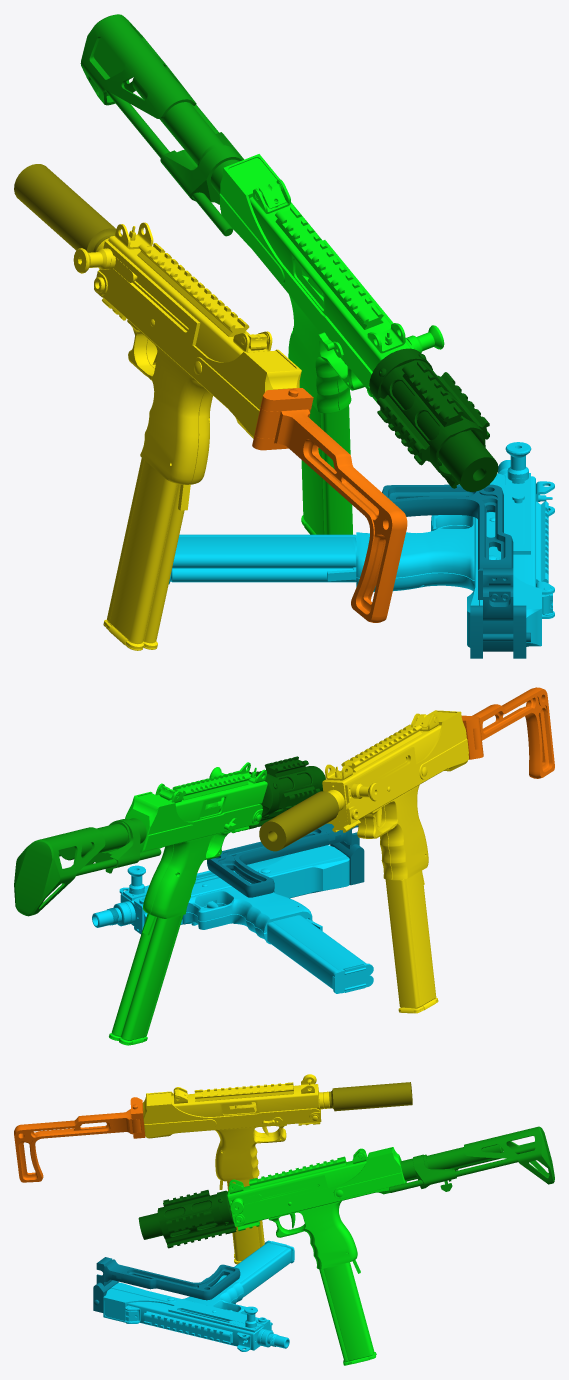
File: MPASST-30.fbx
3 views of the same model, one above another, from view 1: azimuth 30°, elevation 25°; view 2: azimuth 150°, elevation 25°; view 3: azimuth 270°, elevation 25° (orthographic). The views are drawn at different scales.
Parts seen in each view (by area): view 1: LP SST30 Mag, LP SST30 Mag002, LP SST30 Bottom Frame, LP SST30 Stock 1, LP MDCQB-G7 Stock-1, LP SST30 Left Grip Pad, LP SST30 Bottom Frame001, LP SST30 Barrel Extension001, LP SST30 Stock 004, LP SST30 Left Grip Pad002, LP SST30 Top Frame001, LP SST30 Handguard Rails (+22 smaller); view 2: LP SST30 Mag, LP SST30 Mag001, LP MDCQB-G7 Stock-1, LP SST30 Bottom Frame002, LP SST30 Bottom Frame, LP SST30 Bottom Frame001, LP SST30 Mag002, LP SST30 Left Grip Pad, LP SST30 Stock 1, LP SST30 Stock 004, LP SST30 Right Grip Pad001, LP SST30 Left Grip Pad002 (+21 smaller); view 3: LP SST30 Bottom Frame001, LP SST30 Bottom Frame, LP SST30 Mag001, LP SST30 Left Grip Pad001, LP SST30 Stock 1, LP SST30 Right Grip Pad, LP MDCQB-G7 Stock-1, LP SST30 Stock 004, LP SST30 Top Frame, LP SST30 Bottom Frame002, LP SST30 Barrel Extension001, LP SST30 Mag002 (+20 smaller).
Part boxes in pixels (box(x1,y1,x2,y2)): LP SST30 Mag: box(103, 458, 184, 649); LP SST30 Mag002: box(169, 534, 356, 584); LP SST30 Bottom Frame: box(94, 269, 301, 438); LP SST30 Stock 1: box(289, 417, 407, 622); LP MDCQB-G7 Stock-1: box(80, 14, 196, 118); LP SST30 Left Grip Pad: box(127, 320, 205, 484); LP SST30 Bottom Frame001: box(219, 154, 377, 403); LP SST30 Barrel Extension001: box(14, 164, 121, 252); LP SST30 Stock 004: box(382, 484, 513, 566); LP SST30 Left Grip Pad002: box(356, 515, 474, 580); LP SST30 Top Frame001: box(249, 197, 410, 371); LP SST30 Handguard Rails: box(377, 360, 489, 488); LP SST30 Mag: box(385, 871, 438, 1012); LP SST30 Mag001: box(109, 913, 183, 1044); LP MDCQB-G7 Stock-1: box(14, 827, 105, 916); LP SST30 Bottom Frame002: box(134, 845, 349, 934); LP SST30 Bottom Frame: box(327, 710, 468, 824); LP SST30 Bottom Frame001: box(125, 791, 262, 851); LP SST30 Mag002: box(267, 915, 370, 992); LP SST30 Left Grip Pad: box(364, 785, 428, 880); LP SST30 Stock 1: box(472, 687, 554, 778); LP SST30 Stock 004: box(207, 827, 341, 897); LP SST30 Right Grip Pad001: box(151, 830, 233, 918); LP SST30 Left Grip Pad002: box(186, 882, 312, 932); LP SST30 Bottom Frame001: box(232, 1147, 406, 1226); LP SST30 Bottom Frame: box(143, 1091, 321, 1138); LP SST30 Mag001: box(319, 1262, 376, 1364); LP SST30 Left Grip Pad001: box(268, 1201, 357, 1269); LP SST30 Stock 1: box(14, 1112, 122, 1182); LP SST30 Right Grip Pad: box(215, 1124, 286, 1181); LP MDCQB-G7 Stock-1: box(464, 1126, 554, 1184); LP SST30 Stock 004: box(111, 1264, 240, 1300); LP SST30 Top Frame: box(171, 1084, 320, 1116); LP SST30 Bottom Frame002: box(103, 1282, 270, 1330); LP SST30 Barrel Extension001: box(329, 1082, 412, 1111); LP SST30 Mag002: box(221, 1241, 293, 1297).
Bounding box in the file's own units: 886 × 813 × 1779.
